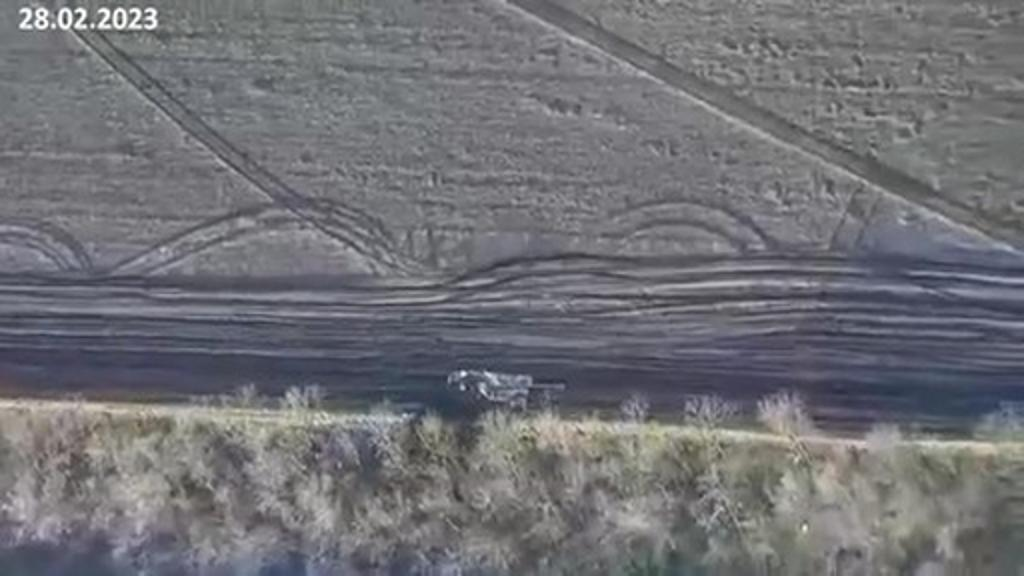ART: (438, 362, 564, 416)
